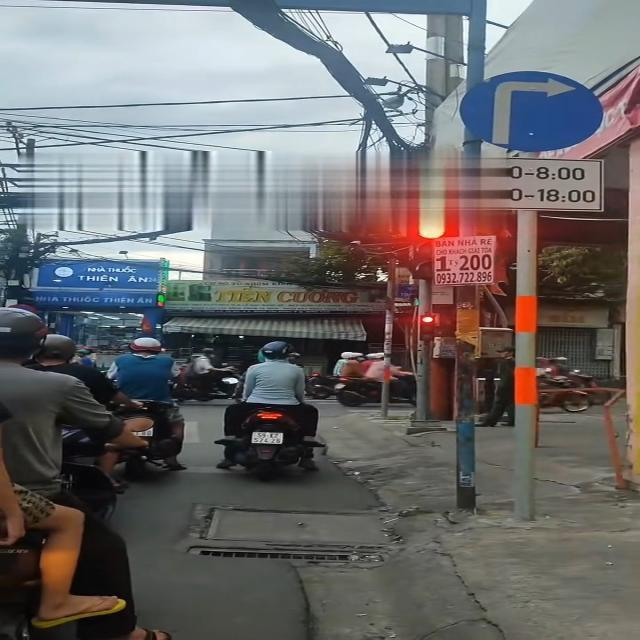301d-cac-xe-chi-duoc-re-phai-2: (465, 68, 605, 148)
